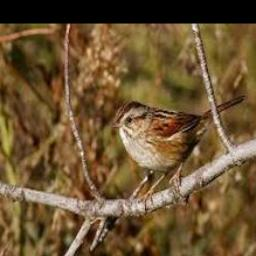Sparrow: (111, 96, 244, 212)
